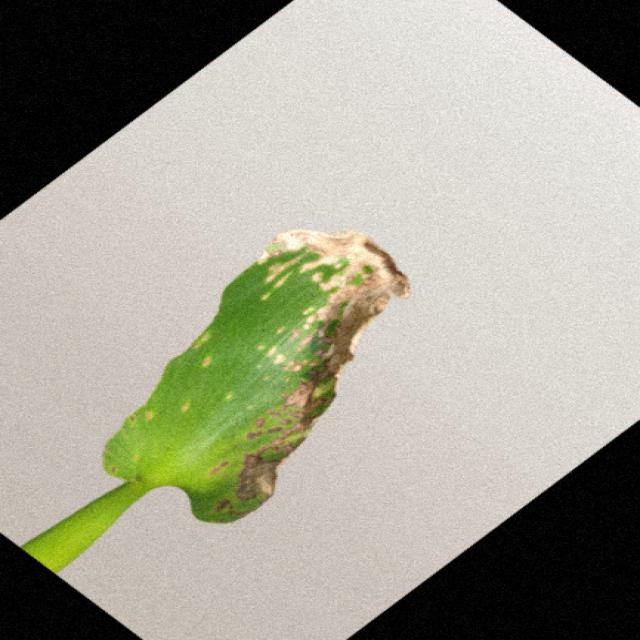daun berpenyakit bercak: (23, 231, 410, 572)
